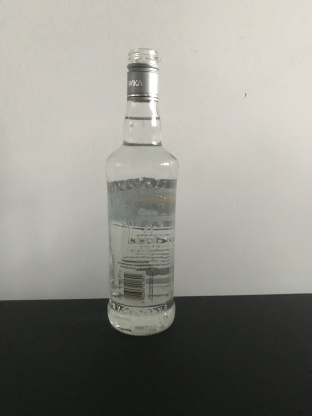nakretka: (125, 46, 161, 102)
